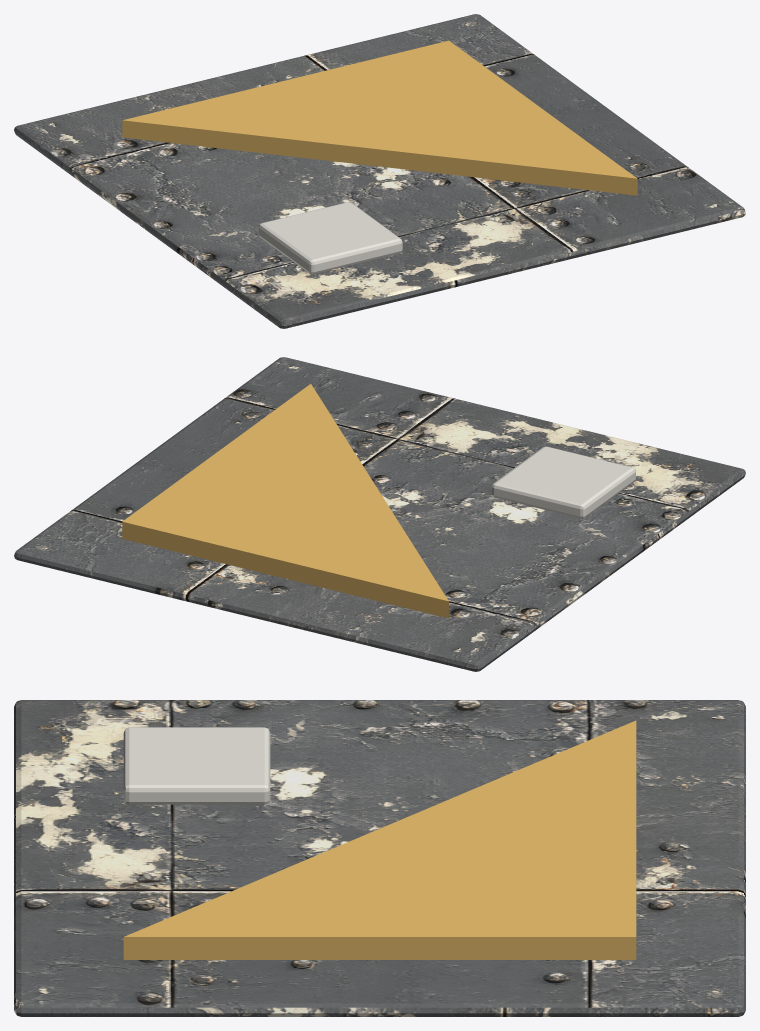
The model's file is inlay_corner.glb.
The picture shows the model from 3 angles, top to bottom: view 1: azimuth 30°, elevation 25°; view 2: azimuth 150°, elevation 25°; view 3: azimuth 270°, elevation 25°; orthographic projection. The views are drawn at different scales.
Visible parts, largest first — view 1: GEO-inlay-base, GEO-corner, GEO-corner-mark; view 2: GEO-inlay-base, GEO-corner, GEO-corner-mark; view 3: GEO-inlay-base, GEO-corner, GEO-corner-mark.
Boxes of the visible parts, x1=… form: GEO-inlay-base: x1=14, y1=14, x2=745, y2=328; GEO-corner: x1=122, y1=40, x2=637, y2=195; GEO-corner-mark: x1=258, y1=202, x2=402, y2=274; GEO-inlay-base: x1=14, y1=357, x2=745, y2=671; GEO-corner: x1=122, y1=384, x2=448, y2=618; GEO-corner-mark: x1=492, y1=446, x2=635, y2=518; GEO-inlay-base: x1=14, y1=700, x2=745, y2=1016; GEO-corner: x1=123, y1=720, x2=636, y2=959; GEO-corner-mark: x1=123, y1=727, x2=270, y2=804.
Bounding box in the file's own units: 40 × 2.2 × 40.
Materials: 3 (1 with a texture image).
